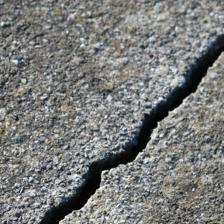Crack: (23, 20, 198, 198)
